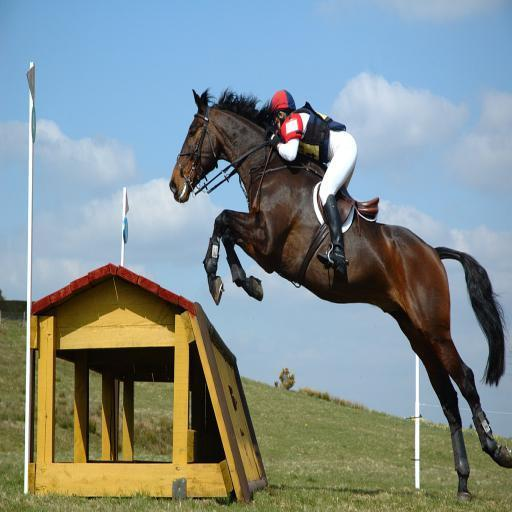horse: (169, 85, 512, 505)
